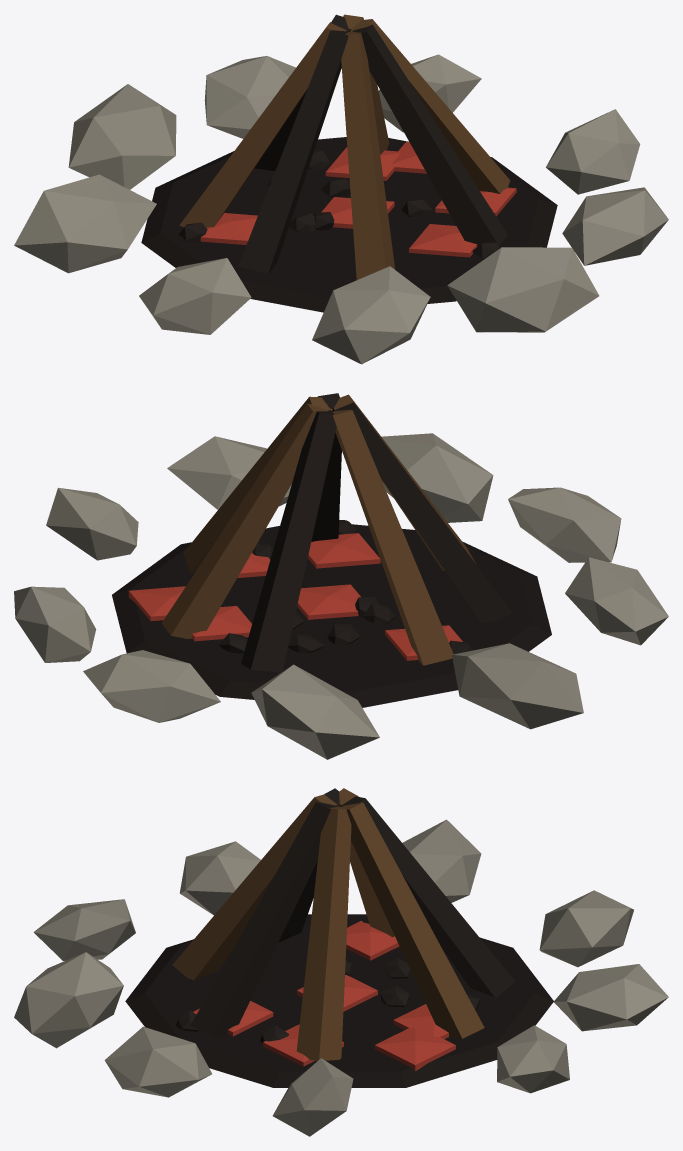
Rendered from campfire-ring.glb.
The picture shows the model from 3 angles, top to bottom: view 1: azimuth 30°, elevation 25°; view 2: azimuth 150°, elevation 25°; view 3: azimuth 270°, elevation 25°; orthographic projection. The views are drawn at different scales.
Parts seen in each view (by area): view 1: Body_Stone, Body_Dark, Body_Charred, Body_WoodDark, Body_Second; view 2: Body_Stone, Body_Dark, Body_Charred, Body_WoodDark, Body_Second; view 3: Body_Stone, Body_Dark, Body_WoodDark, Body_Charred, Body_Second.
Part boxes in pixels (x1,y1,x2,y2): Body_Stone: (14,54,668,364); Body_Dark: (141,137,557,312); Body_Charred: (178,14,507,273); Body_WoodDark: (179,14,510,279); Body_Second: (200,141,516,257); Body_Stone: (14,433,668,759); Body_Dark: (112,524,551,707); Body_Charred: (218,393,512,672); Body_WoodDark: (161,394,476,665); Body_Second: (128,533,462,660); Body_Stone: (14,819,668,1136); Body_Dark: (125,914,553,1087); Body_WoodDark: (172,788,484,1060); Body_Charred: (175,788,515,1043); Body_Second: (193,920,455,1071).
Size of the model in its own units: 1.6 by 0.6 by 1.6.
